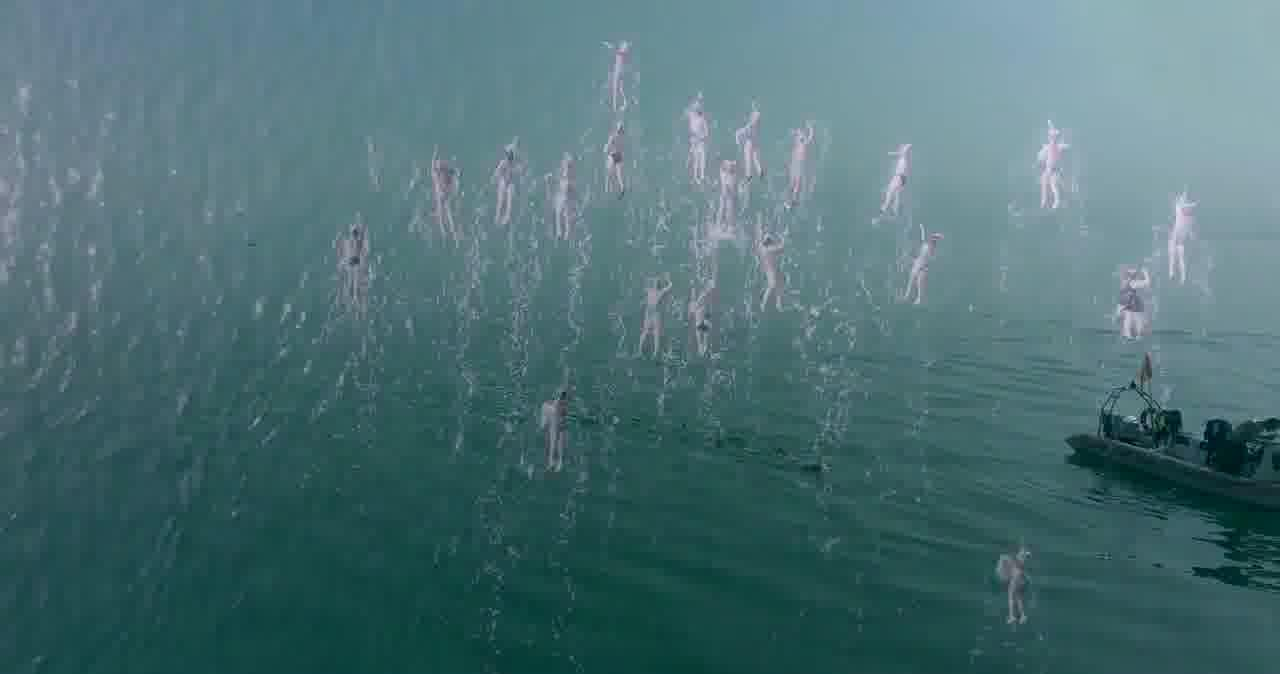human: (423, 151, 465, 246), (1032, 124, 1066, 218), (749, 227, 792, 300), (335, 230, 374, 307), (492, 154, 524, 236), (602, 125, 634, 206), (1170, 194, 1199, 283), (603, 41, 637, 115), (638, 274, 668, 353), (553, 161, 581, 242), (789, 126, 820, 199), (1001, 546, 1032, 618), (541, 387, 570, 462), (882, 132, 905, 220), (910, 224, 935, 302), (692, 98, 712, 186), (744, 106, 767, 182)
